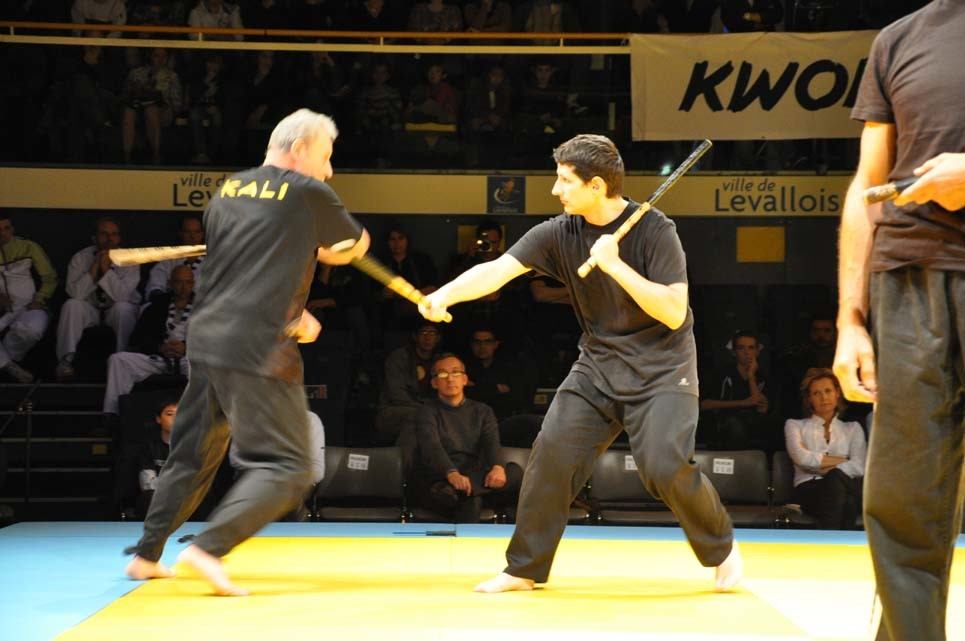baston_e: (588, 140, 704, 277), (358, 248, 445, 323), (120, 236, 203, 272)
baston_v: (857, 179, 888, 211), (105, 242, 124, 277), (575, 261, 594, 282), (701, 134, 717, 150), (443, 309, 455, 329)
